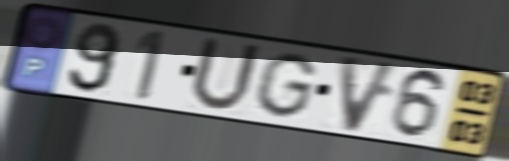1: (133, 27, 168, 103)
6: (388, 67, 453, 141)
9: (65, 20, 124, 96)
G: (250, 50, 321, 120)
U: (185, 34, 264, 115)
V: (337, 52, 404, 136)
